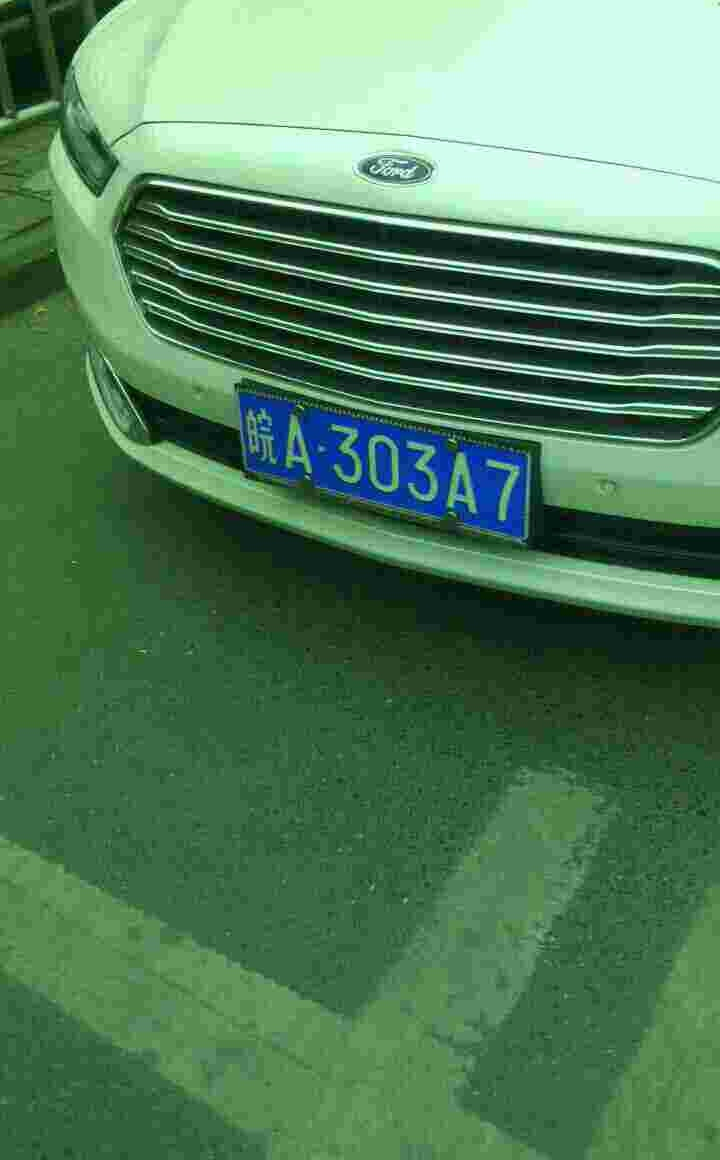license_plate: (247, 384, 543, 546)
